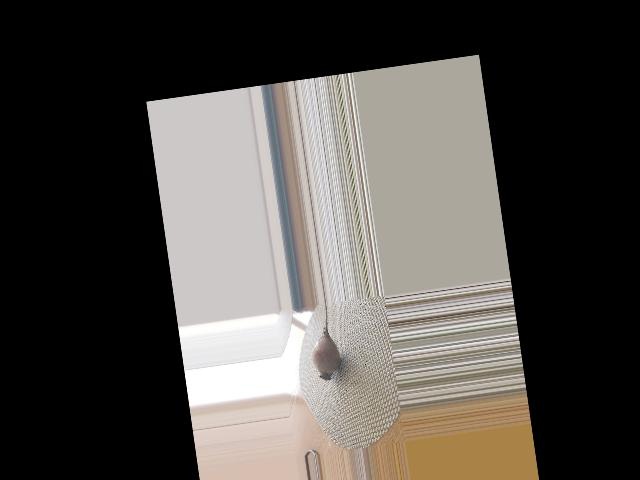beet: (305, 303, 342, 382)
